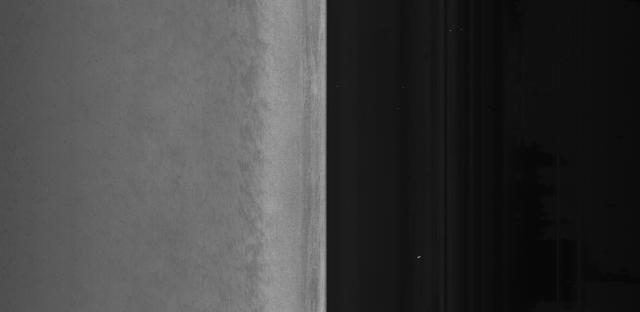silk_spot: (220, 134, 274, 218)
